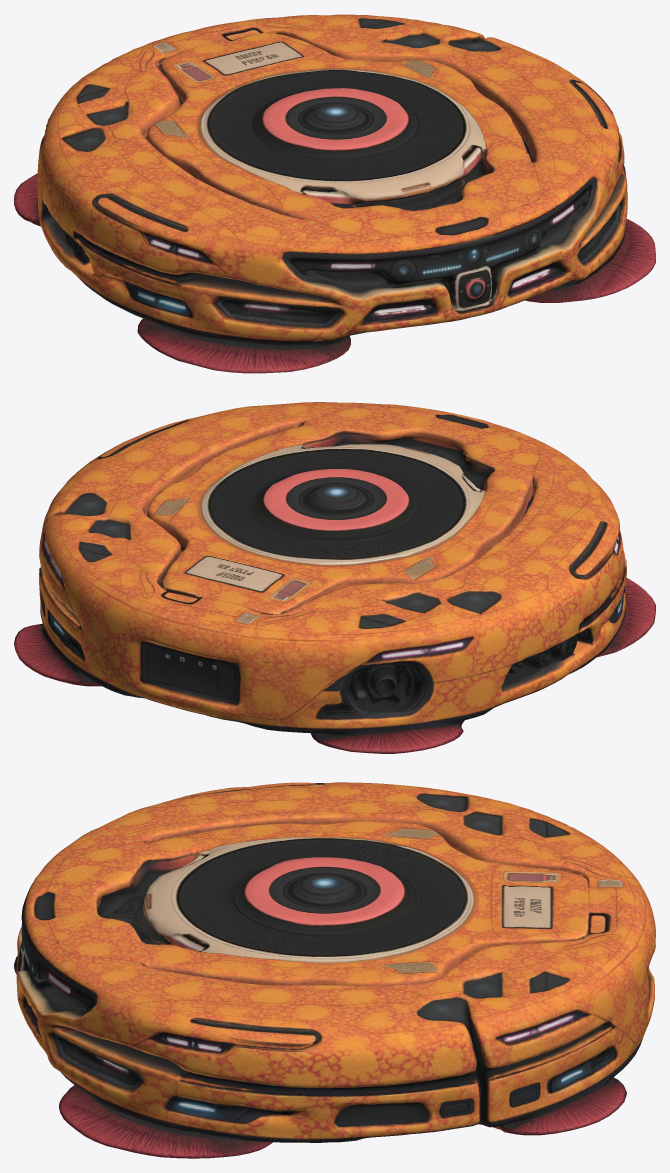
Rendered from tripo_convert_3fb92ec4-786b-44d7-97a8-d6c66770997f.fbx.
The picture shows the model from 3 angles, top to bottom: view 1: azimuth 30°, elevation 25°; view 2: azimuth 150°, elevation 25°; view 3: azimuth 270°, elevation 25°; orthographic projection. The views are drawn at different scales.
Visible parts, largest first — view 1: tripo_node_3fb92ec4; view 2: tripo_node_3fb92ec4; view 3: tripo_node_3fb92ec4.
Boxes of the visible parts, box(x1,y1,x2,y2) form: tripo_node_3fb92ec4: box(14, 14, 655, 373); tripo_node_3fb92ec4: box(14, 402, 655, 753); tripo_node_3fb92ec4: box(14, 782, 655, 1158).
Bounding box in the file's own units: 0.9784 × 0.2818 × 0.9751.
Materials: 1 (1 with a texture image).
